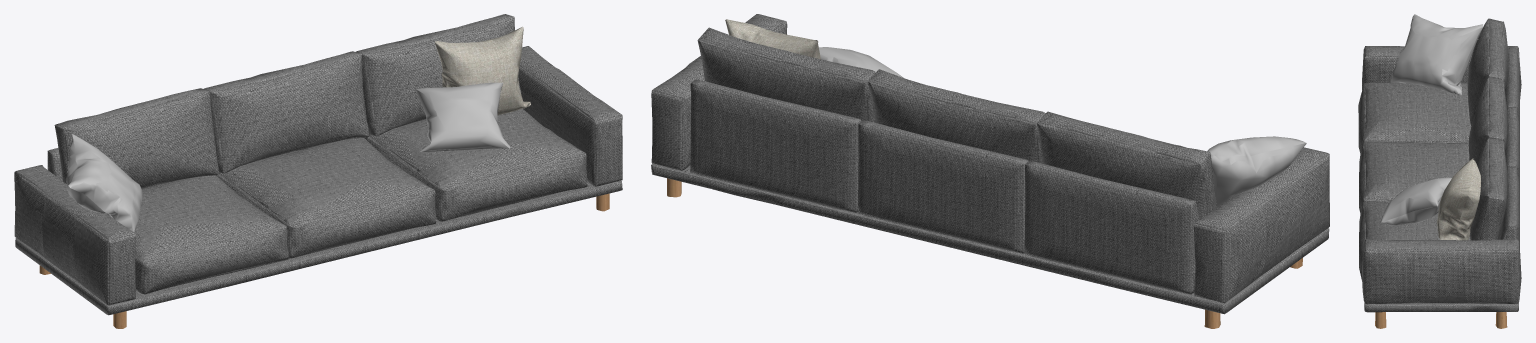
Rendered from SM_三人沙发_240cm.gltf.
3 renders of one model, left to right at view 1: azimuth 30°, elevation 25°; view 2: azimuth 150°, elevation 25°; view 3: azimuth 270°, elevation 25°, orthographic. The views are drawn at different scales.
Visible parts, largest first — view 1: SM_三人沙发_240cm_StaticMeshComponent0; view 2: SM_三人沙发_240cm_StaticMeshComponent0; view 3: SM_三人沙发_240cm_StaticMeshComponent0.
Part boxes in pixels (bbox=[...]): SM_三人沙发_240cm_StaticMeshComponent0: bbox=[14, 14, 622, 328]; SM_三人沙发_240cm_StaticMeshComponent0: bbox=[651, 14, 1329, 328]; SM_三人沙发_240cm_StaticMeshComponent0: bbox=[1358, 14, 1521, 328].
Size of the model in its own units: 280 by 77.36 by 91.69.
4 materials, 4 textured.
